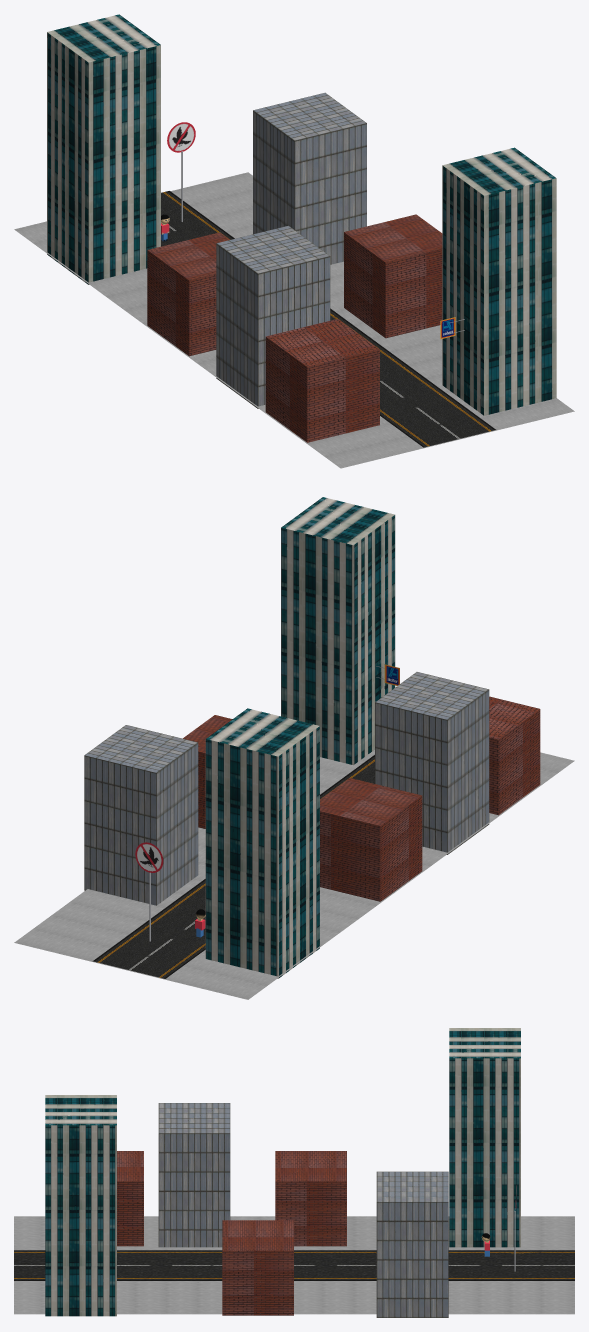
Rendered from butast_primer1.gltf.
The picture shows the model from 3 angles, top to bottom: view 1: azimuth 30°, elevation 25°; view 2: azimuth 150°, elevation 25°; view 3: azimuth 270°, elevation 25°; orthographic projection. The views are drawn at different scales.
Parts seen in each view (by area): view 1: 1bloki_levo3, 1bloki_desno1, 1cesta, 1bloki_levo1, 1bloki_desno3, 1bloki_desno4, 1bloki_levo2, 1bloki_desno2, 1golob_znak; view 2: 1bloki_desno1, 1bloki_levo3, 1cesta, 1bloki_levo1, 1bloki_desno3, 1bloki_desno2, 1bloki_desno4, 1bloki_levo2, 1golob_znak; view 3: 1cesta, 1bloki_levo3, 1bloki_desno1, 1bloki_levo1, 1bloki_desno3, 1bloki_levo2, 1bloki_desno2, 1bloki_desno4.
Boxes of the visible parts, x1,y1,x2,y2 form: 1bloki_levo3: (442,147,556,415); 1bloki_desno1: (47,14,160,284); 1cesta: (14,172,574,468); 1bloki_levo1: (253,92,366,264); 1bloki_desno3: (216,225,330,408); 1bloki_desno4: (265,319,379,442); 1bloki_levo2: (344,214,442,338); 1bloki_desno2: (147,232,229,356); 1golob_znak: (167,122,195,221); 1bloki_desno1: (205,708,319,978); 1bloki_levo3: (281,497,395,765); 1cesta: (14,750,574,999); 1bloki_levo1: (84,725,198,905); 1bloki_desno3: (375,672,489,854); 1bloki_desno2: (320,778,422,901); 1bloki_desno4: (489,696,540,815); 1bloki_levo2: (183,715,232,828); 1golob_znak: (135,842,163,941); 1cesta: (14,1216,574,1314); 1bloki_levo3: (45,1095,116,1316); 1bloki_desno1: (449,1028,520,1247); 1bloki_levo1: (376,1171,448,1317); 1bloki_desno3: (158,1103,230,1247); 1bloki_levo2: (222,1220,293,1315); 1bloki_desno2: (275,1151,346,1246); 1bloki_desno4: (117,1151,143,1246).
Size of the model in its own units: 9.44 by 8.41 by 22.39.
Materials: 14 (14 with a texture image).
